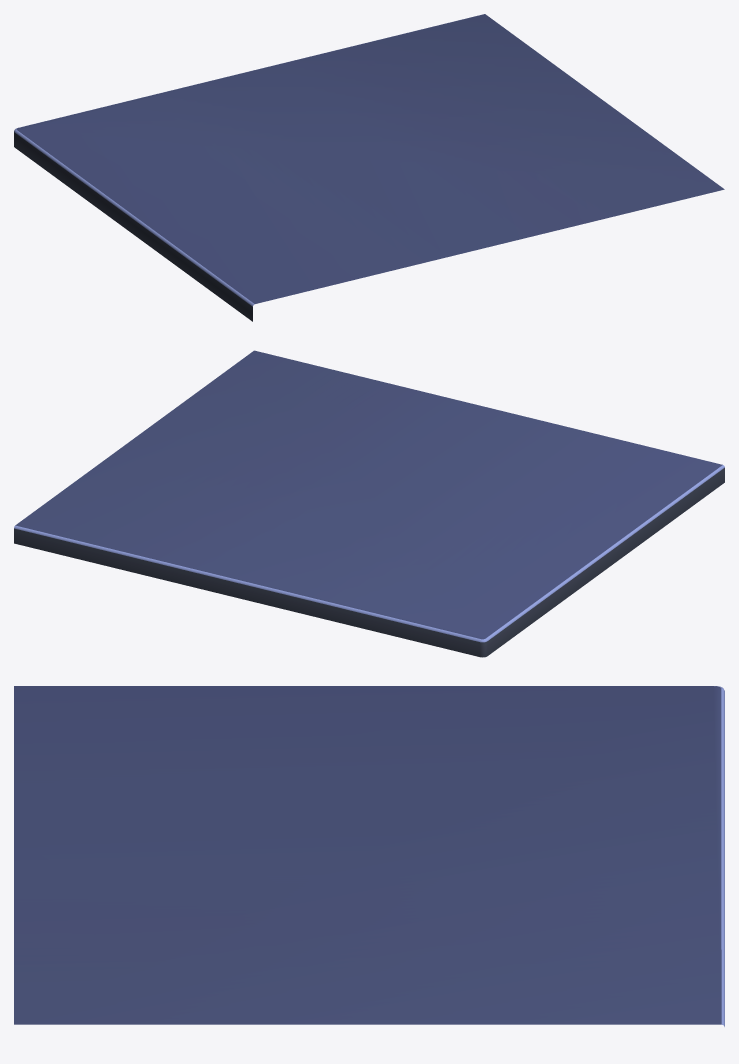
File: Wall.fbx
The picture shows the model from 3 angles, top to bottom: view 1: azimuth 30°, elevation 25°; view 2: azimuth 150°, elevation 25°; view 3: azimuth 270°, elevation 25°; orthographic projection. The views are drawn at different scales.
Visible parts, largest first — view 1: Wall; view 2: Wall; view 3: Wall.
Boxes of the visible parts, bbox=[...] form: Wall: bbox=[14, 14, 724, 321]; Wall: bbox=[14, 350, 724, 657]; Wall: bbox=[14, 686, 724, 1026].
Bounding box in the file's own units: 115 × 4 × 102.
